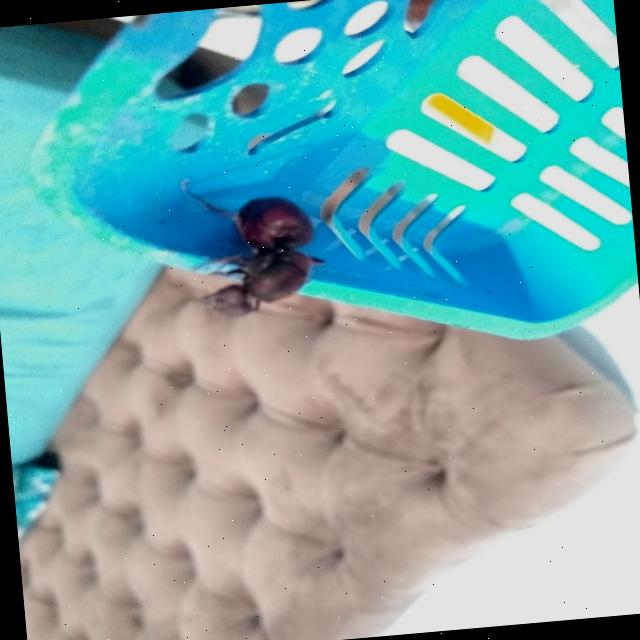Alive-Female-Dealate: (181, 174, 331, 325)
